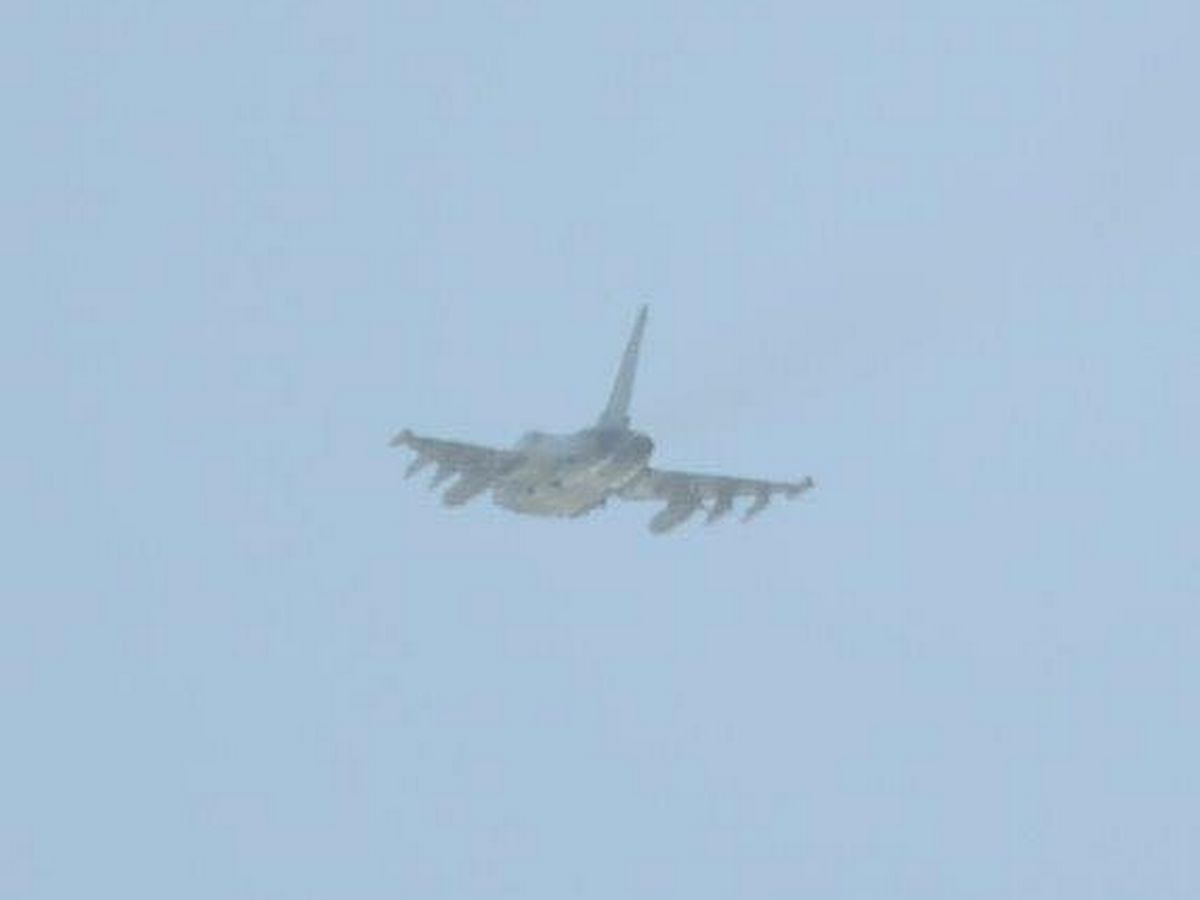plane: (391, 301, 817, 535)
